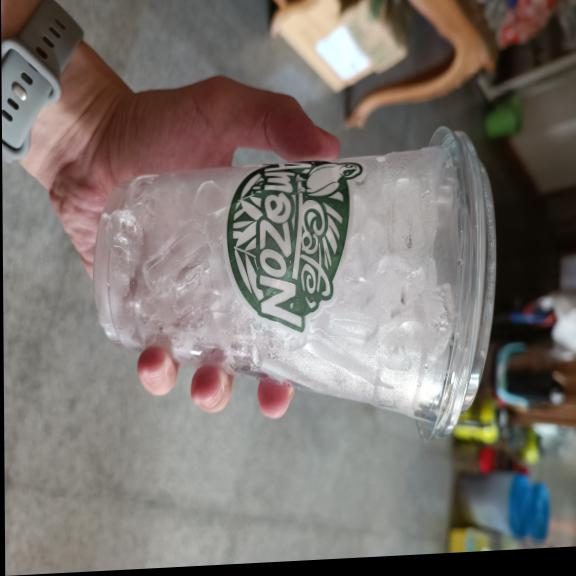Plastik: (94, 128, 494, 440)
